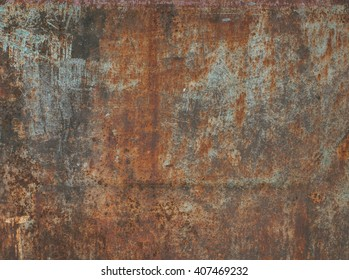rust: (1, 1, 348, 259)
